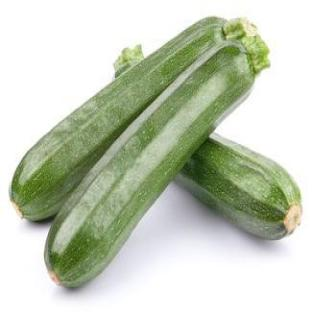Zucchini: (46, 28, 268, 286), (10, 17, 224, 220), (177, 135, 301, 239)
